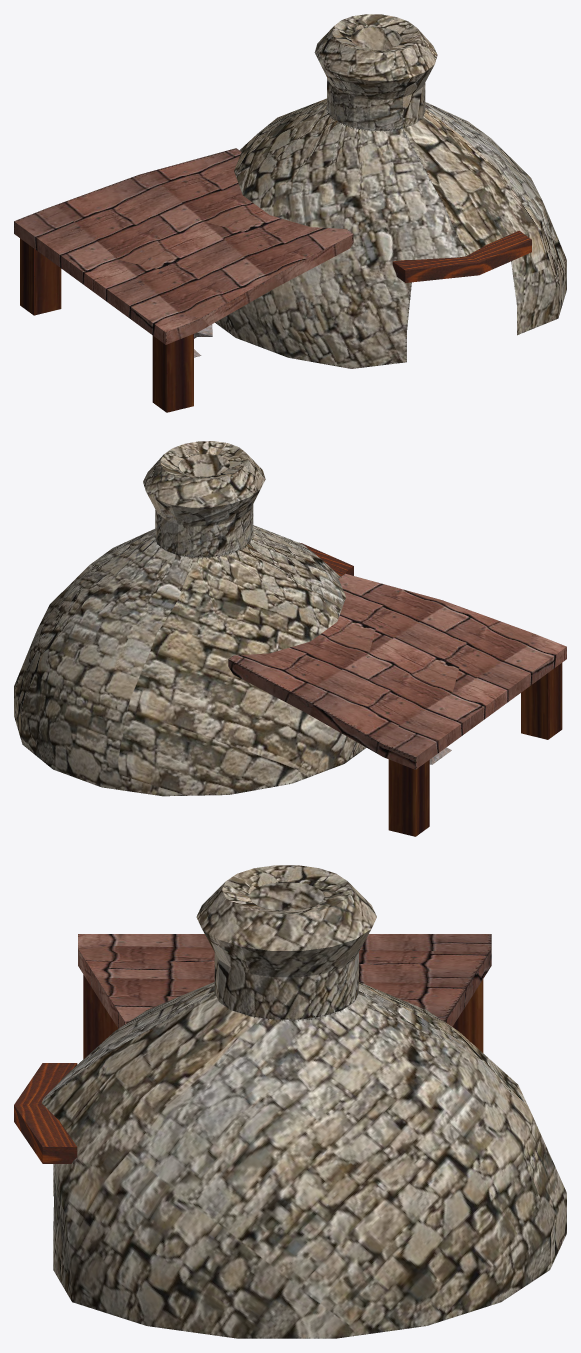
The model's file is sm_Blacksmith01.FBX.
3 views of the same model, one above another, from view 1: azimuth 30°, elevation 25°; view 2: azimuth 150°, elevation 25°; view 3: azimuth 270°, elevation 25° (orthographic). The views are drawn at different scales.
Parts seen in each view (by area): view 1: Sphere003; view 2: Sphere003; view 3: Sphere003.
Boxes of the visible parts, left/top/right/bottom form: Sphere003: left=14, top=14, right=566, bottom=412; Sphere003: left=14, top=441, right=566, bottom=836; Sphere003: left=14, top=865, right=566, bottom=1338.
Size of the model in its own units: 619 by 339 by 489.
